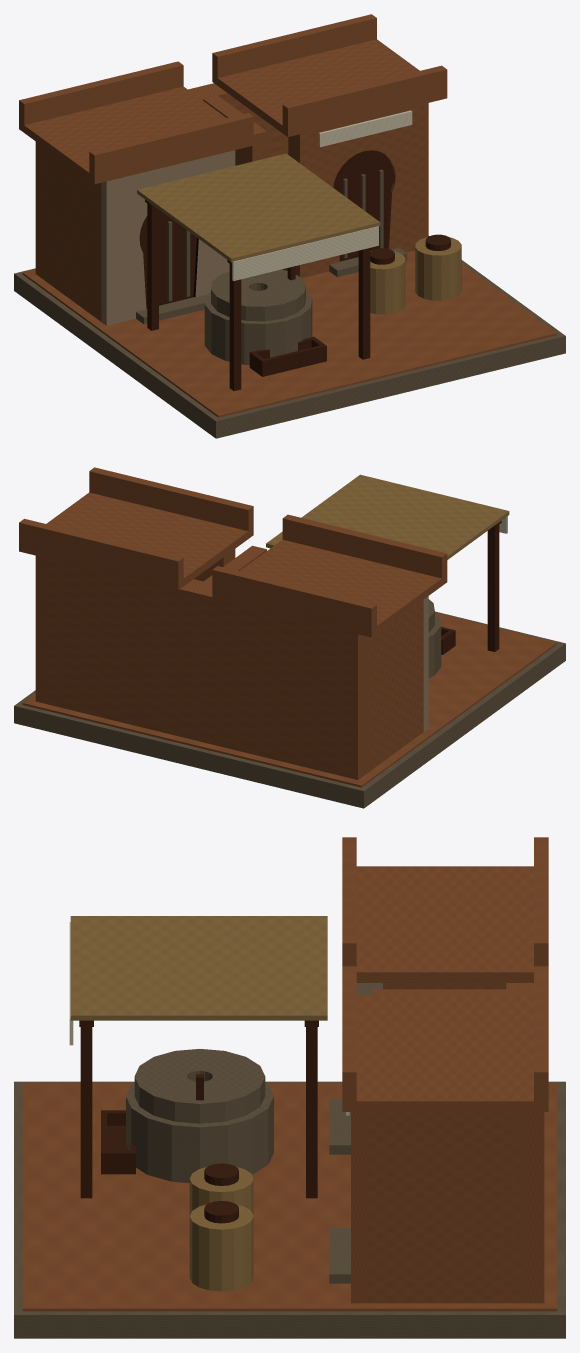
File: Berber_Mill_Age1.fbx
3 renders of one model, top to bottom at view 1: azimuth 30°, elevation 25°; view 2: azimuth 150°, elevation 25°; view 3: azimuth 270°, elevation 25°, orthographic. The views are drawn at different scales.
Visible parts, largest first — view 1: courtyard_floor, woven_shade, courtyard_foundation, store_front, store_front.001, store_roof, store_roof.001, store_westwall, roof_front_parapet.001, roof_front_parapet, roof_back_parapet.001, roof_back_parapet (+15 smaller); view 2: store_backwall, courtyard_foundation, courtyard_floor, woven_shade, store_roof.001, store_roof, store_westwall, roof_back_parapet, roof_back_parapet.001, roof_front_parapet, roof_front_parapet.001, shade_post (+3 smaller); view 3: courtyard_floor, store_eastwall, woven_shade, store_roof.001, store_roof, courtyard_foundation, millstone_bed, rotary_runner, store_backwall, grain_sack.001, store_front.001, shade_post.002 (+13 smaller).
Boxes of the visible parts, <box> form: courtyard_floor: <box>22,250,557,417</box>; woven_shade: <box>137,153,380,262</box>; courtyard_foundation: <box>14,236,565,438</box>; store_front: <box>101,150,235,325</box>; store_front.001: <box>288,103,428,278</box>; store_roof: <box>19,86,253,184</box>; store_roof.001: <box>212,39,447,136</box>; store_westwall: <box>49,152,101,321</box>; roof_front_parapet.001: <box>282,65,447,133</box>; roof_front_parapet: <box>89,113,253,180</box>; roof_back_parapet.001: <box>212,14,376,81</box>; roof_back_parapet: <box>19,61,183,127</box>; store_backwall: <box>35,555,371,779</box>; courtyard_foundation: <box>14,611,565,808</box>; courtyard_floor: <box>22,612,557,787</box>; woven_shade: <box>266,474,509,559</box>; store_roof.001: <box>19,492,253,590</box>; store_roof: <box>212,539,447,637</box>; store_westwall: <box>365,600,423,774</box>; roof_back_parapet: <box>212,566,376,633</box>; roof_back_parapet.001: <box>19,518,183,585</box>; roof_front_parapet: <box>282,514,447,581</box>; roof_front_parapet.001: <box>89,467,253,534</box>; shade_post: <box>487,525,499,651</box>; courtyard_floor: <box>22,1082,557,1311</box>; store_eastwall: <box>365,1112,525,1303</box>; woven_shade: <box>70,916,327,1020</box>; store_roof.001: <box>342,995,548,1111</box>; store_roof: <box>356,866,533,982</box>; courtyard_foundation: <box>14,1081,565,1338</box>; millstone_bed: <box>126,1082,273,1183</box>; rotary_runner: <box>134,1049,265,1123</box>; store_backwall: <box>506,983,544,1303</box>; grain_sack.001: <box>189,1204,253,1291</box>; store_front.001: <box>351,1112,365,1303</box>; shade_post.002: <box>80,1027,92,1198</box>.
Bounding box in the file's own units: 383 × 203 × 380.
5 materials, 5 textured.
